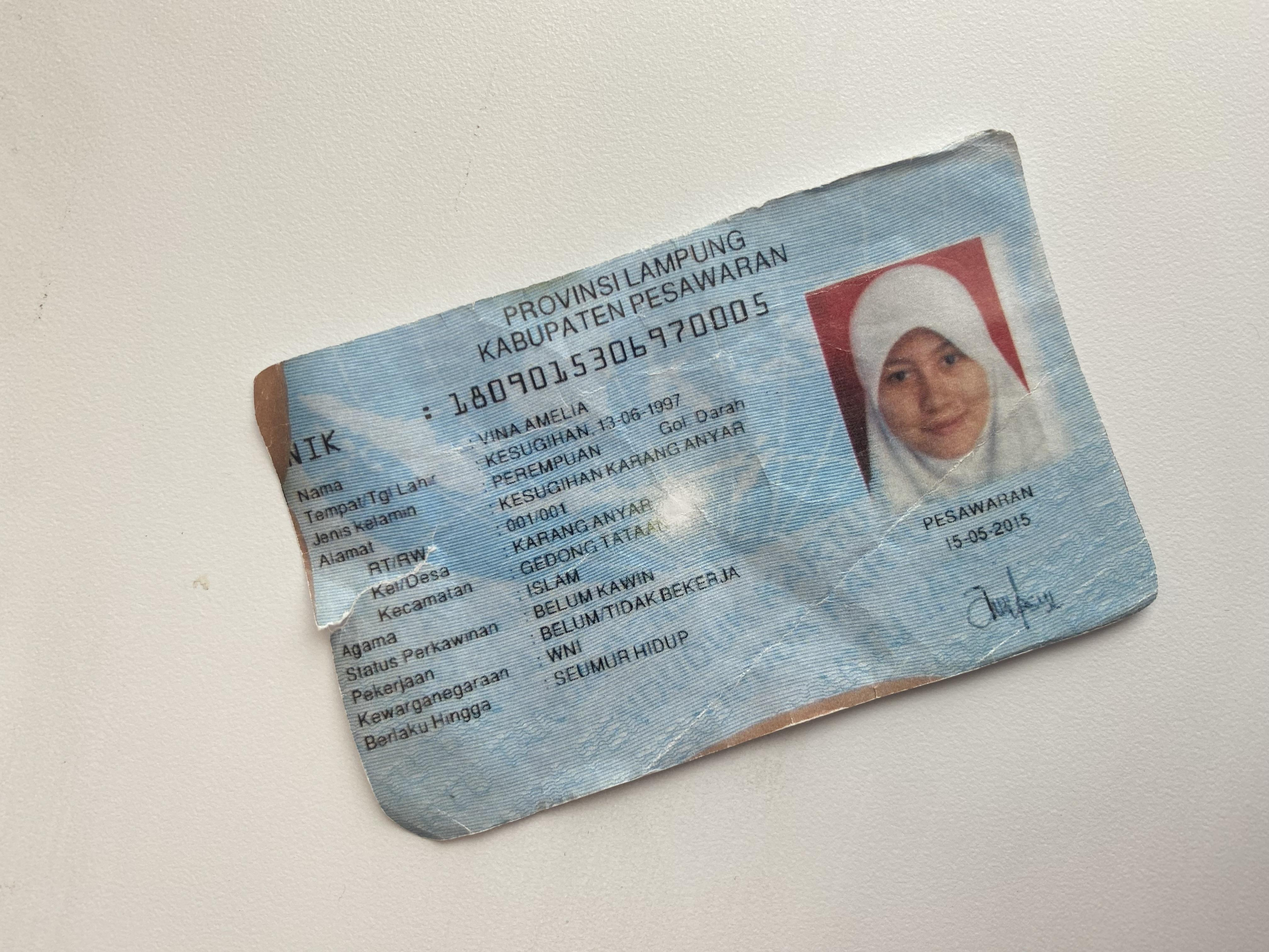ID-card: (125, 188, 1107, 873)
